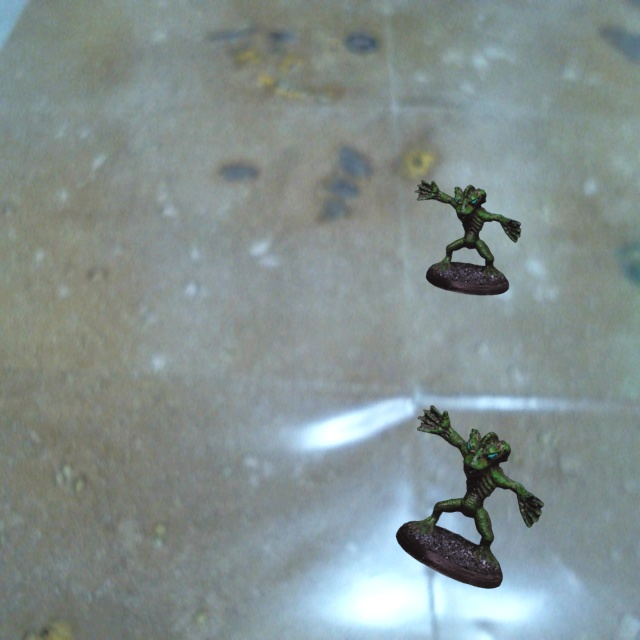pieza_juego: (396, 405, 543, 588), (415, 180, 520, 295)
